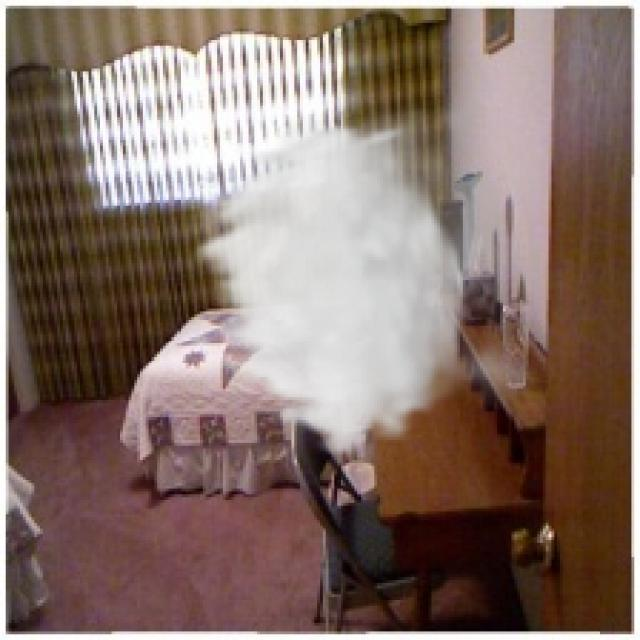Smoke: (186, 51, 534, 460)
